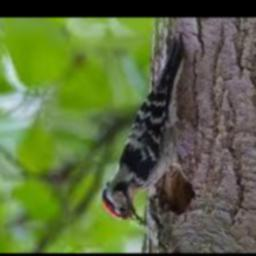Woodpecker: (103, 35, 194, 227)
